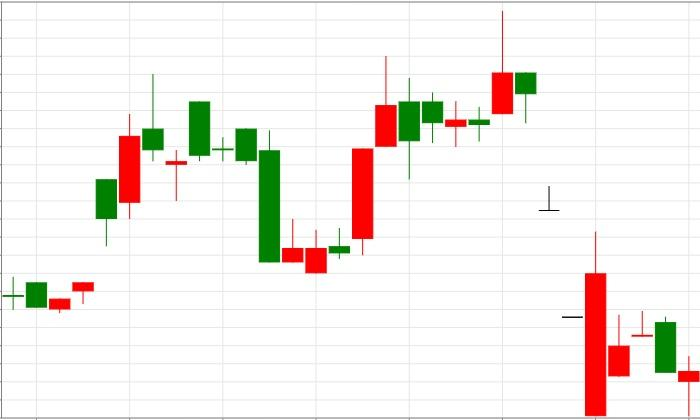shooting_star_fall: (49, 73, 163, 313)
